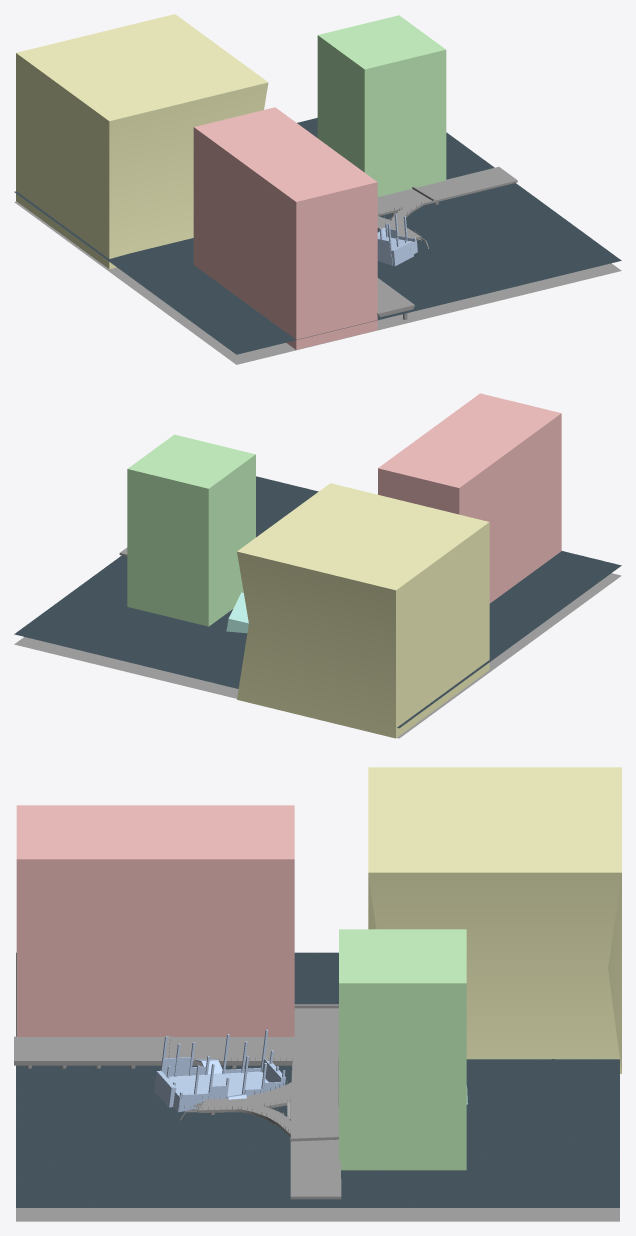
The model's file is eislato_MAP_lostcity_v2.fbx.
3 renders of one model, top to bottom at view 1: azimuth 30°, elevation 25°; view 2: azimuth 150°, elevation 25°; view 3: azimuth 270°, elevation 25°, orthographic. The views are drawn at different scales.
Visible parts, largest first — view 1: pCube13, pCube12, suimen2, pCube17, jimen, pCube2, pCube6; view 2: pCube13, pCube12, suimen2, pCube17, jimen, pCube8; view 3: pCube12, suimen2, pCube13, pCube17, pCube2, jimen, pCube6, pCube14, pCube7.
Boxes of the visible parts, x1=… form: pCube13: x1=16, y1=14, x2=268, y2=269; pCube12: x1=193, y1=107, x2=377, y2=349; suimen2: x1=14, y1=118, x2=621, y2=354; pCube17: x1=317, y1=15, x2=446, y2=196; jimen: x1=14, y1=201, x2=621, y2=364; pCube2: x1=377, y1=167, x2=517, y2=236; pCube6: x1=377, y1=278, x2=414, y2=315; pCube13: x1=237, y1=483, x2=489, y2=738; pCube12: x1=378, y1=393, x2=561, y2=603; suimen2: x1=14, y1=476, x2=621, y2=728; pCube17: x1=127, y1=434, x2=255, y2=626; jimen: x1=14, y1=573, x2=621, y2=738; pCube8: x1=226, y1=592, x2=248, y2=633; pCube12: x1=16, y1=805, x2=294, y2=1036; suimen2: x1=16, y1=952, x2=619, y2=1207; pCube13: x1=368, y1=767, x2=621, y2=1073; pCube17: x1=339, y1=929, x2=466, y2=1170; pCube2: x1=208, y1=1008, x2=341, y2=1199; jimen: x1=16, y1=1208, x2=619, y2=1221; pCube6: x1=14, y1=1036, x2=338, y2=1063; pCube14: x1=169, y1=1071, x2=268, y2=1111; pCube7: x1=14, y1=1063, x2=291, y2=1065.
Size of the model in its own units: 200 by 85.66 by 201.
